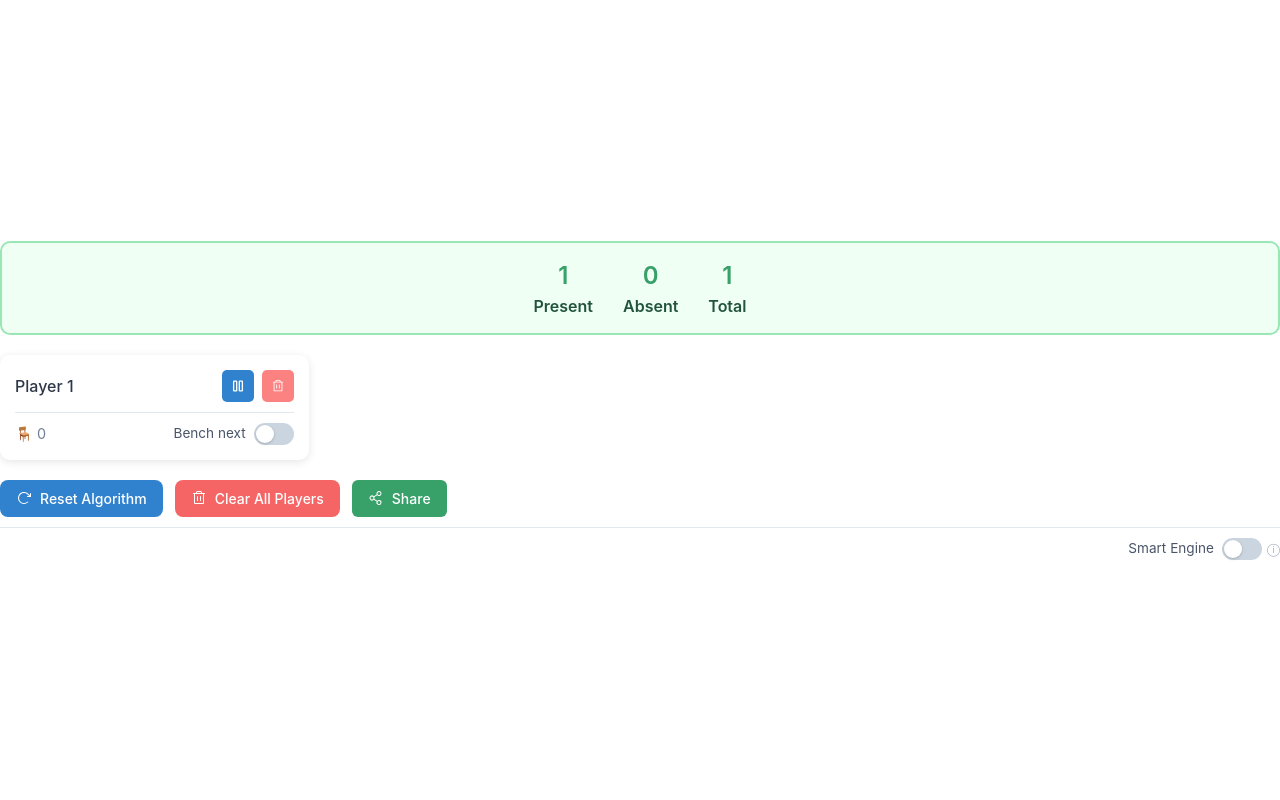
PlayerList Component › Player Removal Modal functionality › closes modal when X button is clicked
Click the button titled "Delete player permanently": coordinates (278, 386) x1=262 y1=370 x2=294 y2=402
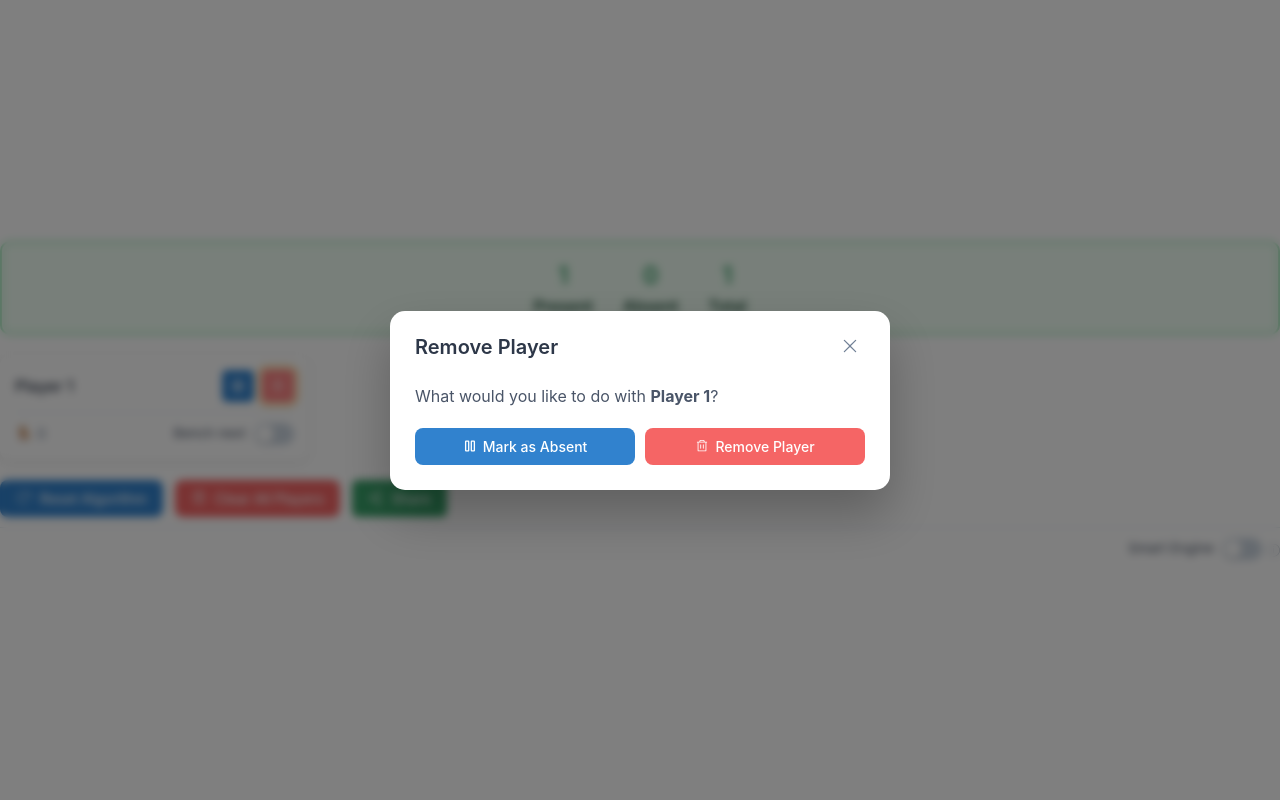
Click the button with test id "player-removal-modal-close": coordinates (850, 347) x1=835 y1=330 x2=865 y2=364
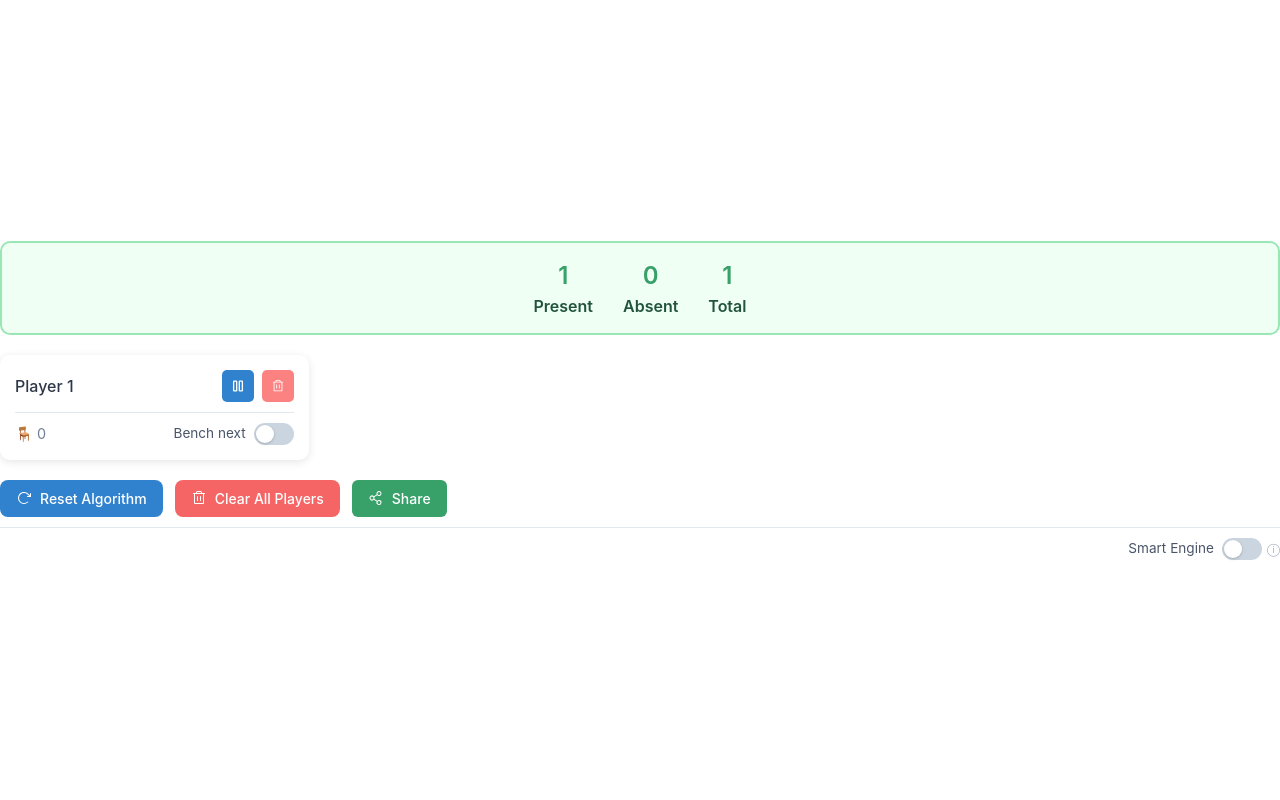
Expected: the element with test id "player-removal-modal" is gone
